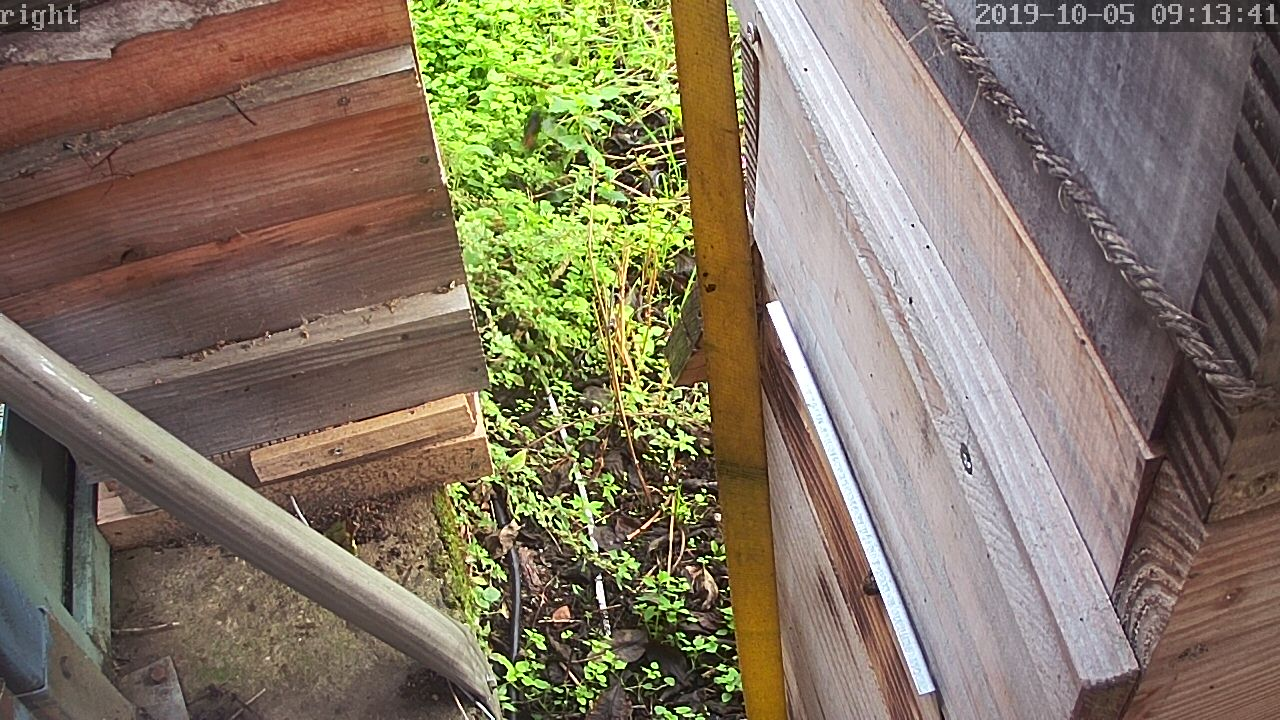hornet: (330, 488, 390, 546), (506, 104, 542, 163), (646, 248, 687, 295)
